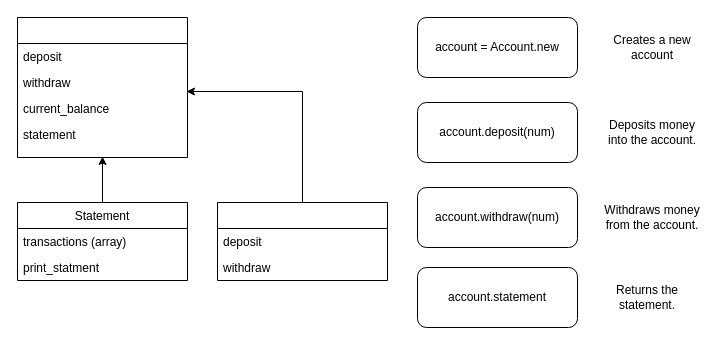
The diagram is 725 pixels wide and 345 high, and some of its shapes have lost their labels. Each missing label, with the box of its shape:
Account: (16, 16, 188, 158)
Transactions: (216, 202, 388, 280)
